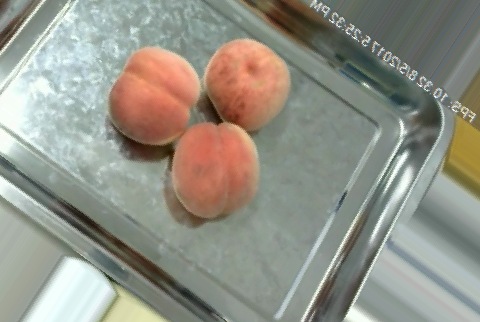Peach: (109, 43, 199, 145), (170, 121, 259, 220), (202, 35, 291, 132)
